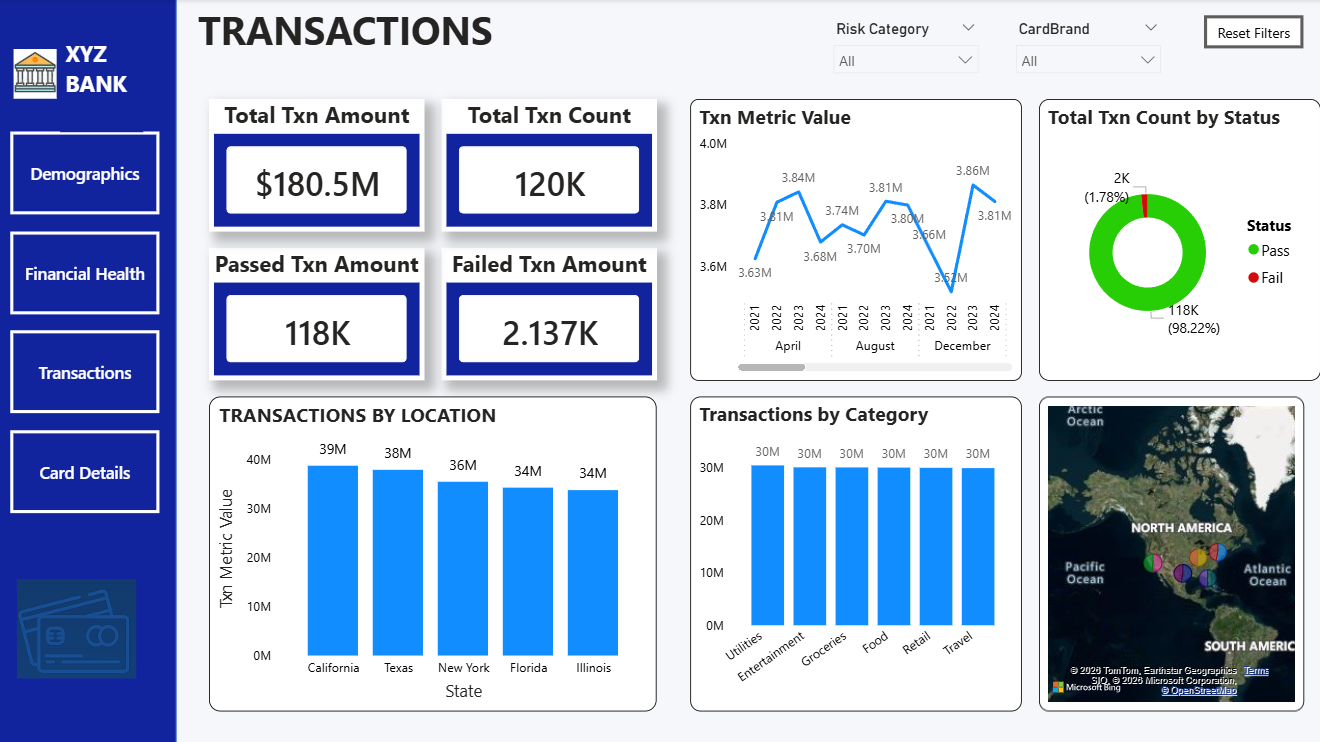

This screenshot's page, from the dashboard's own definition file:
{"tool":"powerbi","page":{"name":"Transactions","canvas":[1280,720],"ordinal":2},"visuals":[{"type":"shape","box":[0,0,176,720],"z":0},{"type":"actionButton","box":[16,128,144,80],"z":1000},{"type":"actionButton","box":[16,224,144,80],"z":2000},{"type":"actionButton","box":[16,320,144,80],"z":3000},{"type":"actionButton","box":[16,416,144,80],"z":4000},{"type":"cardVisual","title":"Failed Txn Amount","fields":{"Data":["Fact_Transactions.Failed Txn Count"]},"box":[432,240,208,128],"z":5000},{"type":"cardVisual","title":" Total Txn Count","fields":{"Data":["Fact_Transactions.Total Txn Count"]},"box":[432,96,208,128],"z":6000},{"type":"cardVisual","title":"Passed Txn Amount","fields":{"Data":["Fact_Transactions.Passed Txn Count"]},"box":[208,240,208,128],"z":7000},{"type":"cardVisual","title":" Total Txn Amount","fields":{"Data":["Fact_Transactions.Total Txn Amount"]},"box":[208,96,208,128],"z":8000},{"type":"clusteredColumnChart","title":"Transactions by Category","fields":{"Category":["Fact_Transactions.Category"],"Y":["Txn Metric Toggle.Txn Metric Value"]},"box":[672,384,320,304],"z":9000},{"type":"lineChart","title":"Txn Metric Value ","fields":{"Category":["Dim_Date.Month","Dim_Date.Year"],"Y":["Txn Metric Toggle.Txn Metric Value"]},"box":[672,96,320,272],"z":10000},{"type":"map","fields":{"Category":["Dim_Client.State"],"Series":["Dim_Client.City"],"Size":["Txn Metric Toggle.Txn Metric Value"]},"box":[1008,384,256,304],"z":11000},{"type":"donutChart","fields":{"Category":["Fact_Transactions.Status"],"Y":["Fact_Transactions.Total Txn Count"]},"box":[1008,96,272,272],"z":12000},{"type":"lineStackedColumnComboChart","title":"TRANSACTIONS BY LOCATION","fields":{"Category":["Dim_Client.State"],"Y":["Txn Metric Toggle.Txn Metric Value"]},"box":[208,384,432,304],"z":13000},{"type":"actionButton","box":[1168,16,96,32],"z":14000},{"type":"textbox","box":[192,0,304,64],"z":14001},{"type":"slicer","fields":{"Values":["Dim_Card.CardBrand"]},"box":[976,16,160,64],"z":14002},{"type":"slicer","fields":{"Values":["Fact_Debt.Risk Category"]},"box":[800,16,160,64],"z":14003},{"type":"image","box":[16,560,128,96],"z":14004},{"type":"image","box":[16,48,48,48],"z":14005},{"type":"textbox","box":[64,32,80,96],"z":14006}]}

Visuals, with their boxes in screenshot pixels (x1, y1, x2, y2), scaled from the page's 1280x720 canvas onto the 1320x742 screenshot:
shape: left=0, top=0, right=182, bottom=741
actionButton: left=16, top=132, right=165, bottom=214
actionButton: left=16, top=231, right=165, bottom=313
actionButton: left=16, top=330, right=165, bottom=412
actionButton: left=16, top=429, right=165, bottom=511
"Failed Txn Amount" cardVisual: left=446, top=247, right=660, bottom=379
" Total Txn Count" cardVisual: left=446, top=99, right=660, bottom=231
"Passed Txn Amount" cardVisual: left=214, top=247, right=429, bottom=379
" Total Txn Amount" cardVisual: left=214, top=99, right=429, bottom=231
"Transactions by Category" clusteredColumnChart: left=693, top=396, right=1023, bottom=709
"Txn Metric Value " lineChart: left=693, top=99, right=1023, bottom=379
map - Dim_Client.State x Dim_Client.City: left=1040, top=396, right=1304, bottom=709
donutChart - Fact_Transactions.Status x Fact_Transactions.Total Txn Count: left=1040, top=99, right=1319, bottom=379
"TRANSACTIONS BY LOCATION" lineStackedColumnComboChart: left=214, top=396, right=660, bottom=709
actionButton: left=1204, top=16, right=1304, bottom=49
textbox: left=198, top=0, right=512, bottom=66
slicer - Dim_Card.CardBrand: left=1006, top=16, right=1172, bottom=82
slicer - Fact_Debt.Risk Category: left=825, top=16, right=990, bottom=82
image: left=16, top=577, right=148, bottom=676
image: left=16, top=49, right=66, bottom=99
textbox: left=66, top=33, right=148, bottom=132
